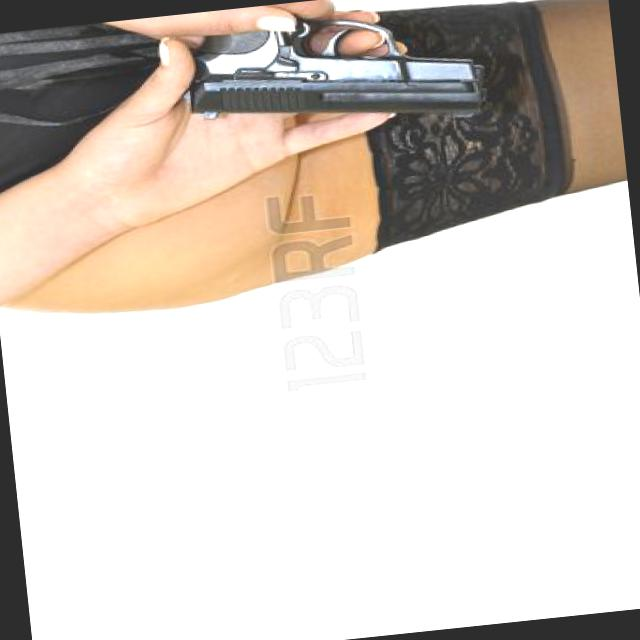handgun: (176, 0, 488, 153)
